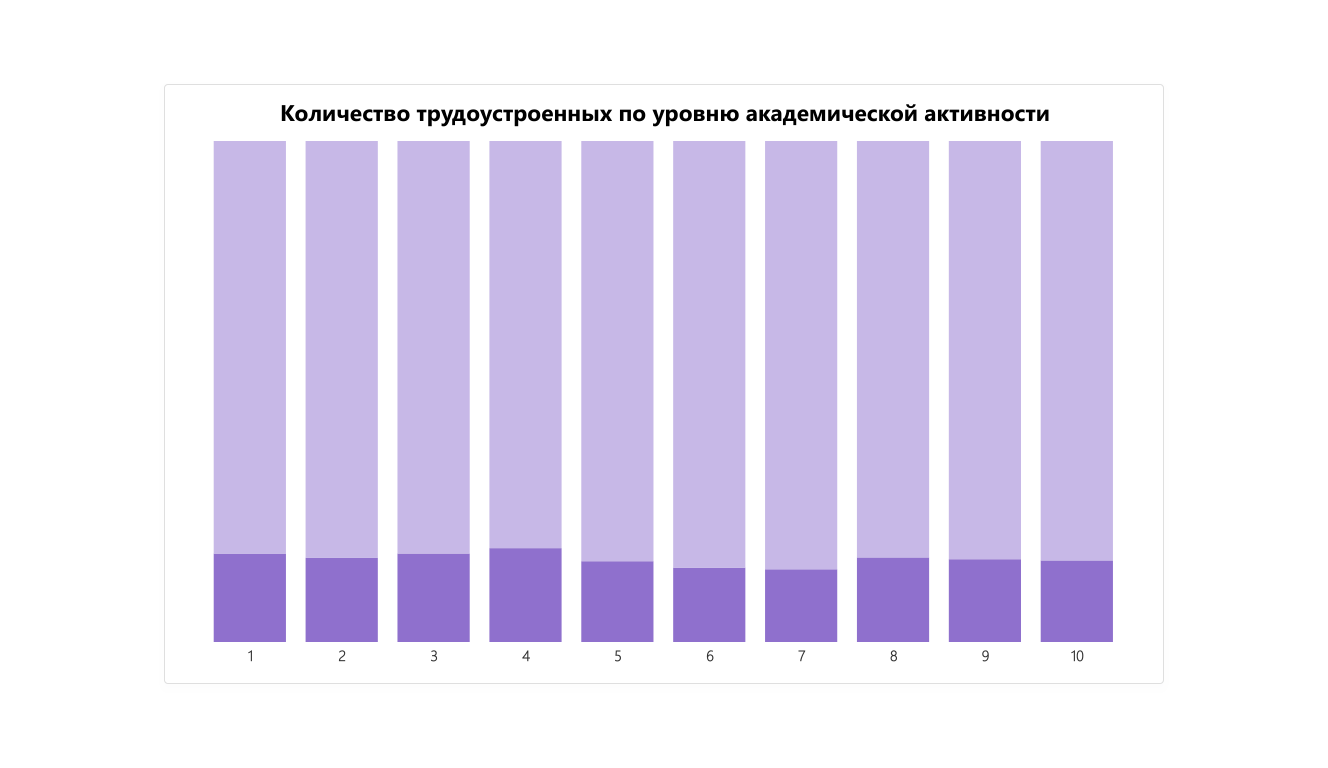

The page's visual inventory and layout, read from the dashboard file:
{"tool":"powerbi","page":{"name":"АКАДЕМИЧЕСКАЯ АКТИВНОСТЬ","canvas":[1280,720],"ordinal":3},"visuals":[{"type":"hundredPercentStackedColumnChart","title":"Количество трудоустроенных по уровню академической активности","fields":{"Y":["Sum(academ_performance.Трудоустроенные)","Sum(academ_performance.Нетрудоустроенные)"],"Category":["academ_performance.Академ_успеваемость"]},"box":[139.7,60,1000.3,600],"z":0}]}

Visuals, with their boxes in screenshot pixels (x1, y1, x2, y2), scaled from the page's 1280x720 canvas onto the 1328x768 screenshot:
"Количество трудоустроенных по уровню академической активности" hundredPercentStackedColumnChart: rect(145, 64, 1183, 704)
